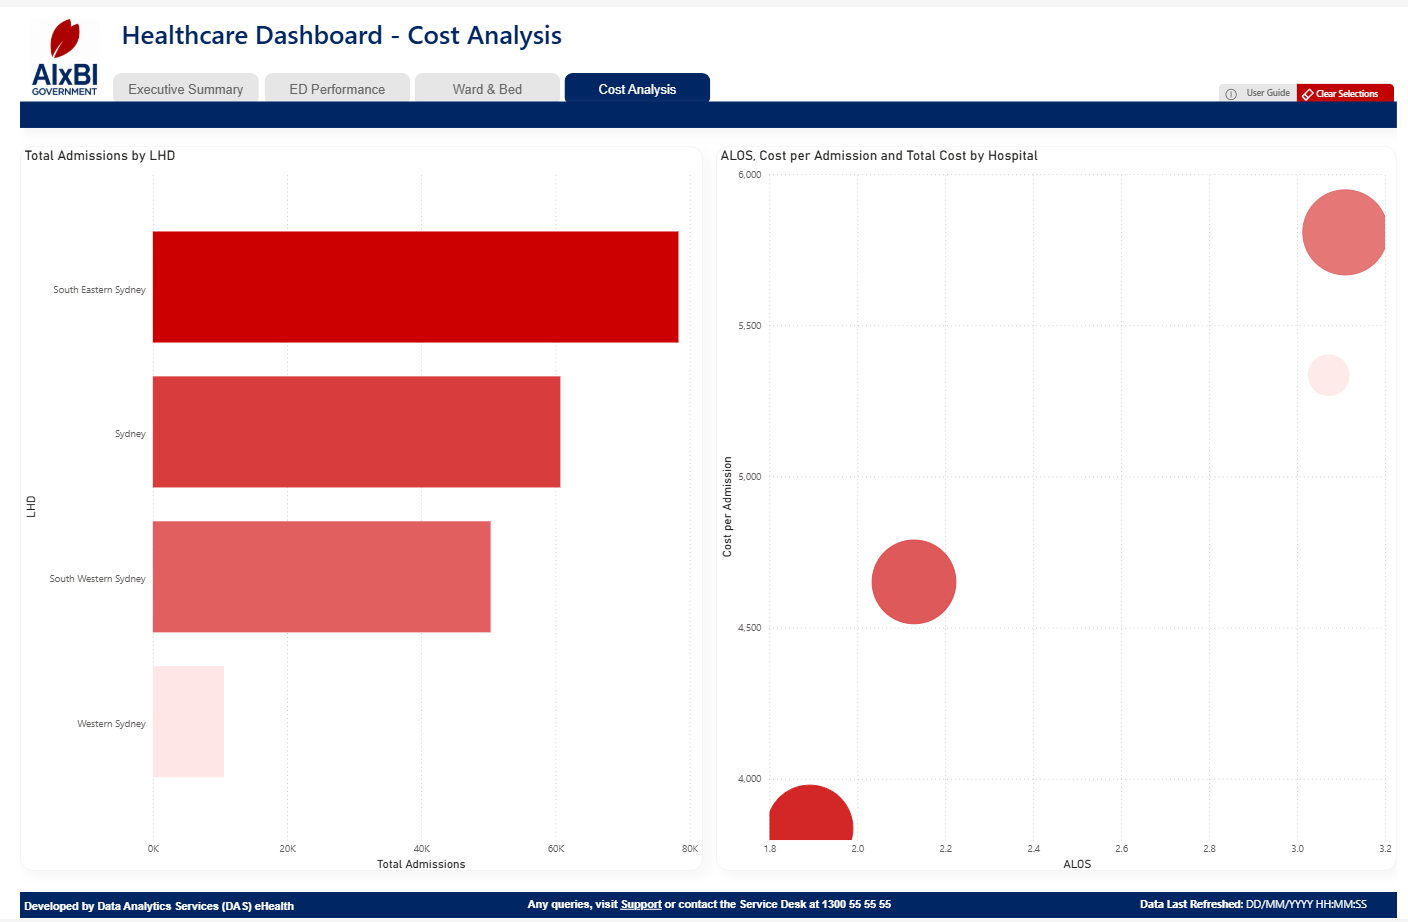

Layout of this report page (visuals, bound fields, positions):
{"tool":"powerbi","page":{"name":"Cost Analysis","canvas":[1700,1126],"ordinal":3},"visuals":[{"type":"image","box":[5,15,100,95],"z":0},{"type":"textbox","box":[0,1093,531.2,31.1],"z":0,"group":"g1"},{"type":"textbox","box":[120,5,798.3,58.3],"z":1000,"group":"g2"},{"type":"textbox","box":[1.4,1092,1698.6,31.4],"z":1000,"group":"g1"},{"type":"actionButton","title":"User Button","box":[1479.4,95.3,107.8,25],"z":2000},{"type":"actionButton","title":"Clear Button","box":[1575.7,95,120.7,25.6],"z":3000},{"type":"group","id":"g1","title":"Footer Group","box":[0,1092,1700,32],"z":5000},{"type":"group","id":"g2","title":"Page Header","box":[120,5,798.3,58.3],"z":6000},{"type":"actionButton","title":"Account Button","box":[114.3,81.4,180,40],"z":7000},{"type":"actionButton","title":"Account Button","box":[302,81.7,180,40],"z":8000},{"type":"textbox","box":[1377.1,1092.9,322.9,31.4],"z":9000},{"type":"actionButton","title":"Account Button","box":[487.1,81.7,180,40],"z":10000},{"type":"actionButton","title":"Account Button","box":[672.9,81.4,180,40],"z":11000},{"type":"barChart","fields":{"Category":["dim_ward.lhd"],"Y":["fact_admissions.Total Admissions"]},"box":[0,171.4,842.9,894.3],"z":16000},{"type":"scatterChart","fields":{"X":["fact_admissions.ALOS"],"Y":["fact_admissions.Cost per Admission"],"Series":["dim_ward.hospital"],"Size":["fact_admissions.Total Cost"]},"box":[860,171.4,840,894.3],"z":17000},{"type":"shape","box":[0,115.8,1700,32.9],"z":18000}]}

Visuals, with their boxes in screenshot pixels (x1, y1, x2, y2), scaled from the page's 1700x1126 canvas onto the 1408x922 screenshot:
image: 4:12:87:90
textbox: 0:895:440:920
textbox: 99:4:761:52
textbox: 1:894:1407:920
"User Button" actionButton: 1225:78:1315:99
"Clear Button" actionButton: 1305:78:1405:99
"Footer Group" group: 0:894:1407:920
"Page Header" group: 99:4:761:52
"Account Button" actionButton: 95:67:244:99
"Account Button" actionButton: 250:67:399:100
textbox: 1141:895:1407:921
"Account Button" actionButton: 403:67:553:100
"Account Button" actionButton: 557:67:706:99
barChart - dim_ward.lhd x fact_admissions.Total Admissions: 0:140:698:873
scatterChart - fact_admissions.ALOS x fact_admissions.Cost per Admission: 712:140:1407:873
shape: 0:95:1407:122
